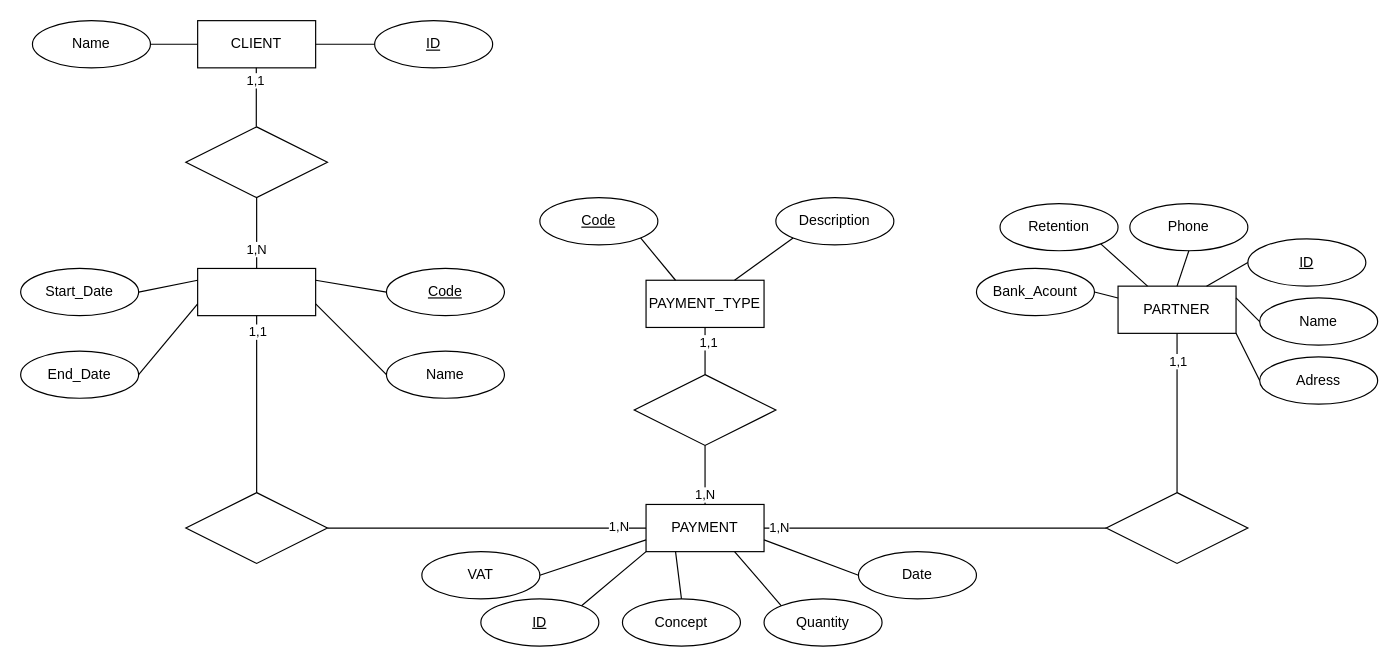
This 1398x667 diagram has some shape labels left out. Here are the shapes that lost their labels. From the top down, the centre of each, then its label:
At [256,162]: "Request".
At [256,291]: "PROJECT".
At [704,409]: "Classify".
At [256,527]: "Generates".
At [1176,527]: "Receive".
